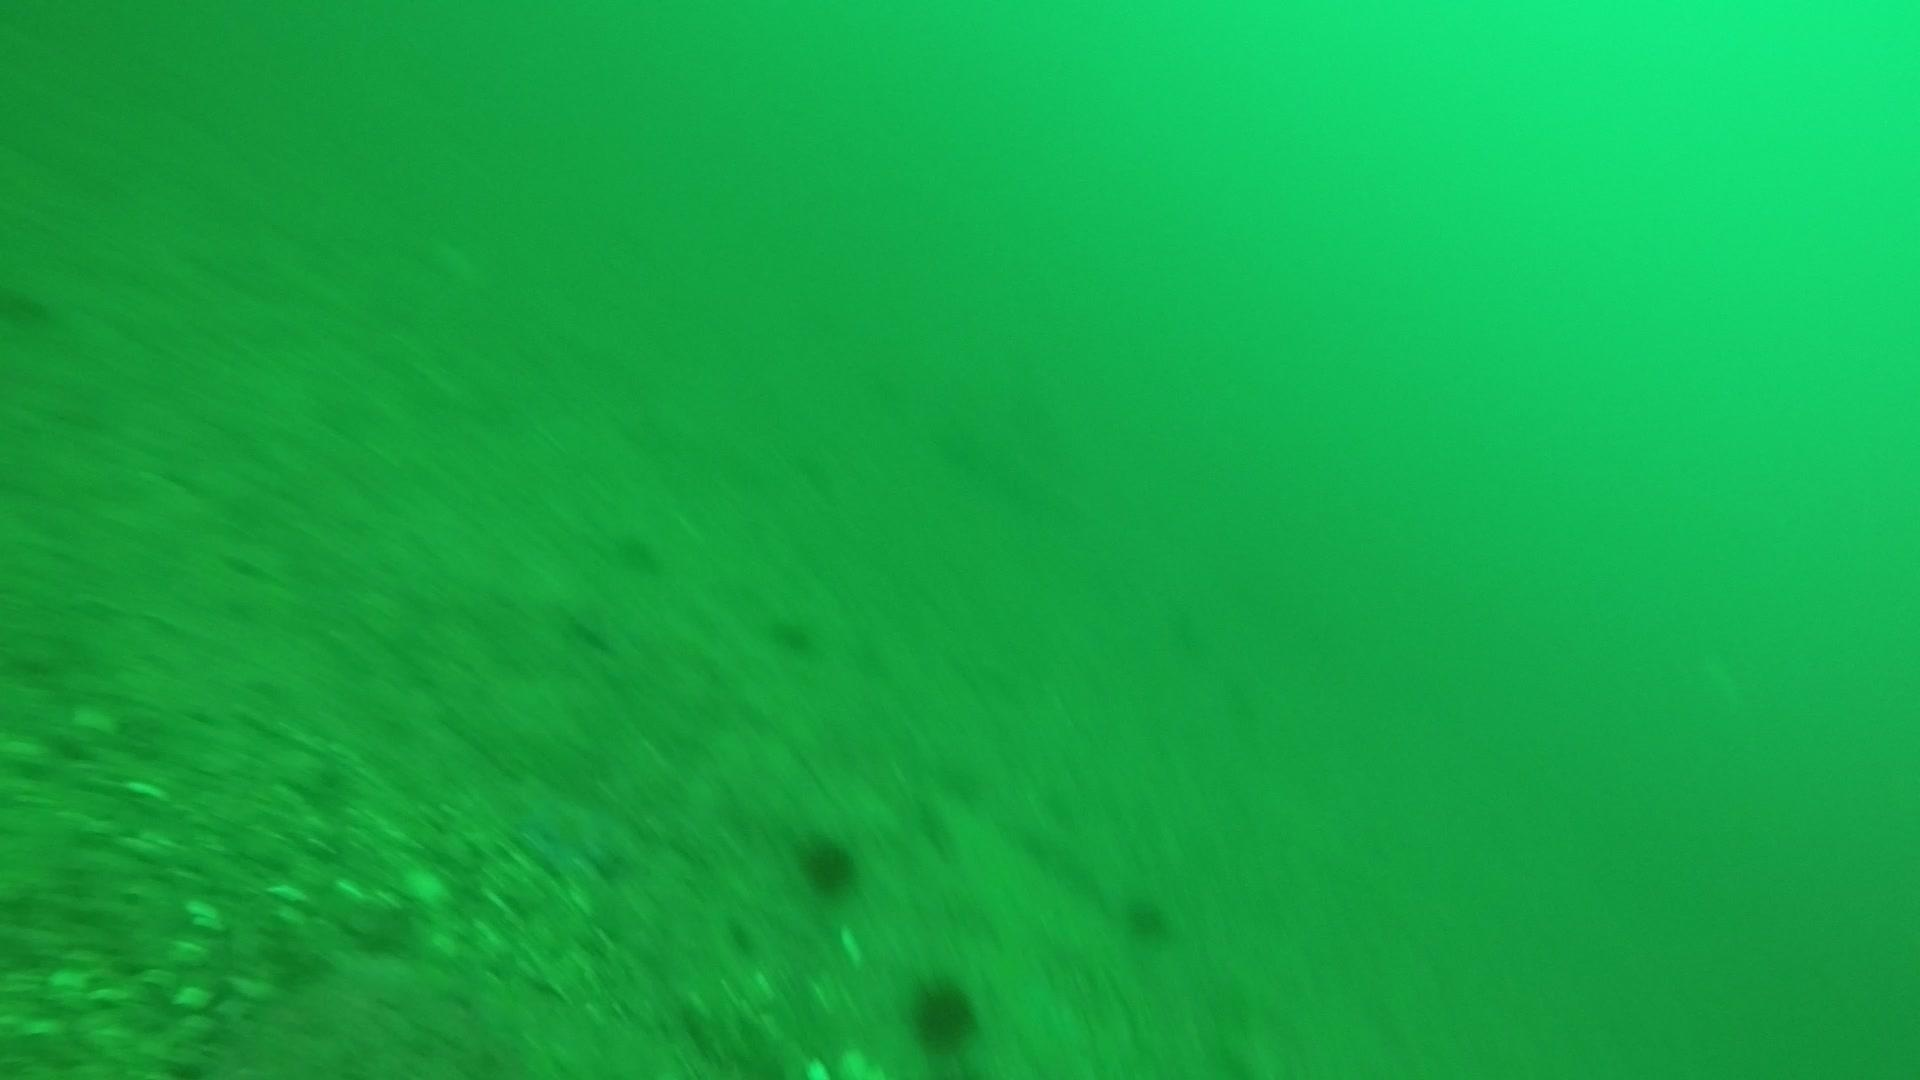echinus: (903, 971, 985, 1058), (793, 828, 864, 899), (1116, 887, 1178, 945), (0, 278, 58, 334), (764, 608, 822, 659)
starfish: (510, 783, 625, 885)
